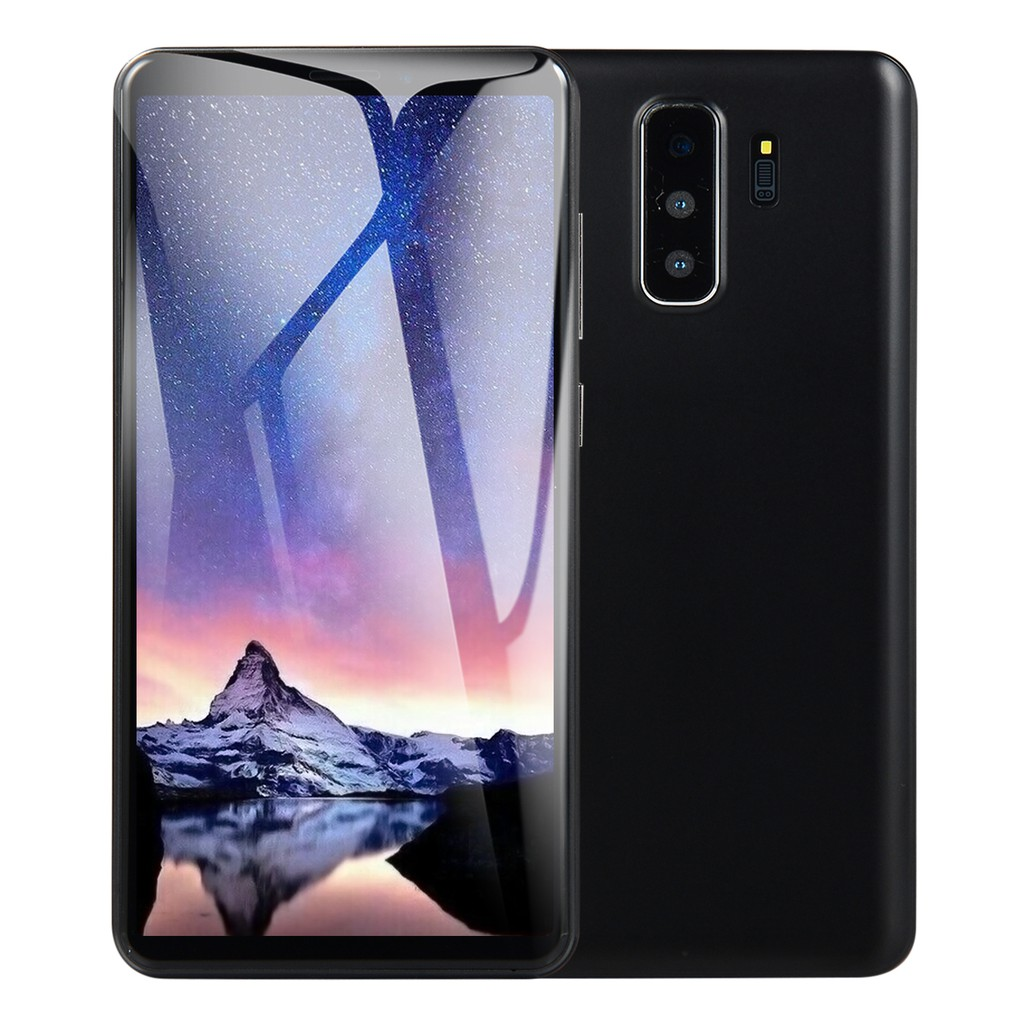Mobile Phone: (71, 23, 615, 982)
